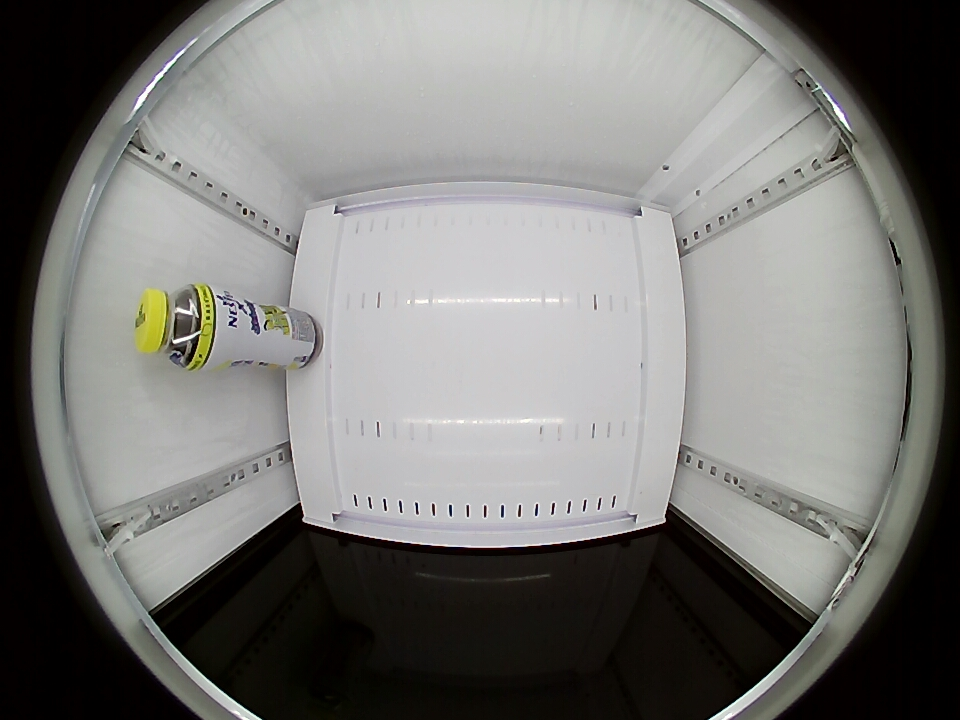chacui: (135, 283, 219, 371)
